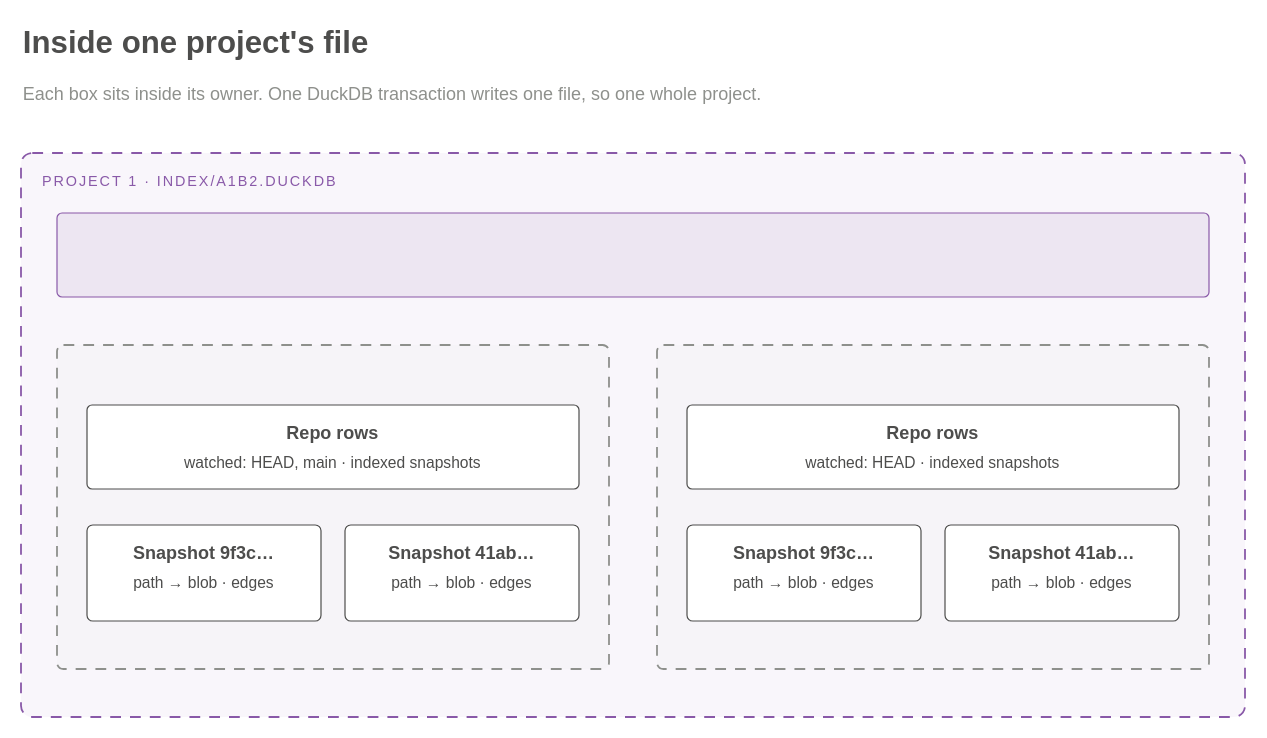
The diagram is 1267 pixels wide and 738 high, and some of its shapes have lost their labels. Here are the shapes that lost their labels. From the top down, the box of each, then its label:
(56, 212, 1209, 297): Chunks, shared by the project stored once per blob, whichever checkout read it
(56, 344, 609, 669): REPO 1 · ~/APPS/RBTR
(656, 344, 1209, 669): REPO 2 · ~/APPS/RBTR-FIX, A LINKED WORKTREE
